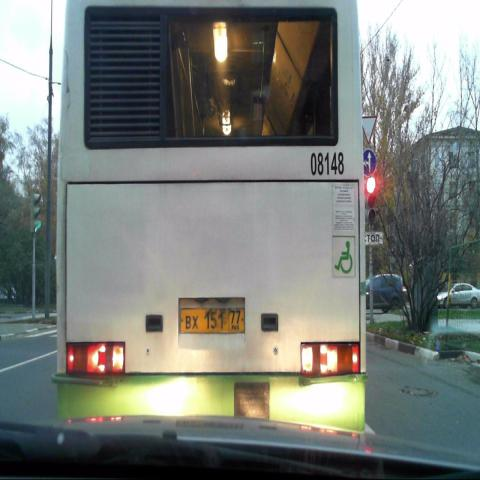4_1_5: (362, 149, 376, 176)
